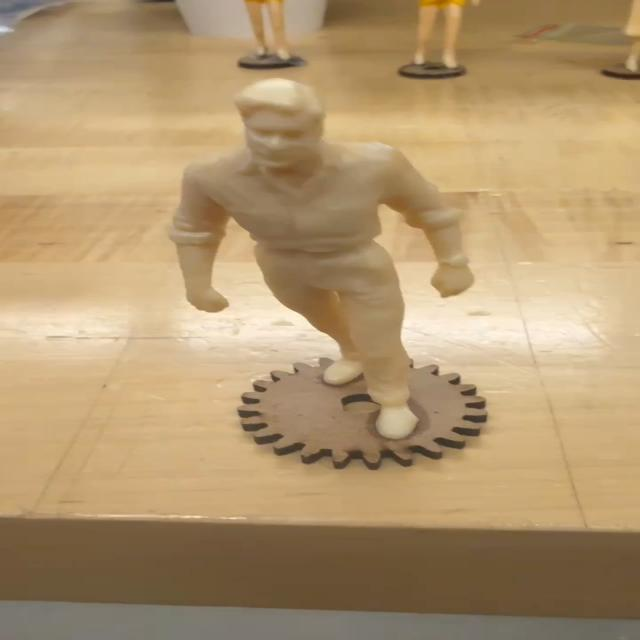Unauthorized: (172, 74, 481, 443)
